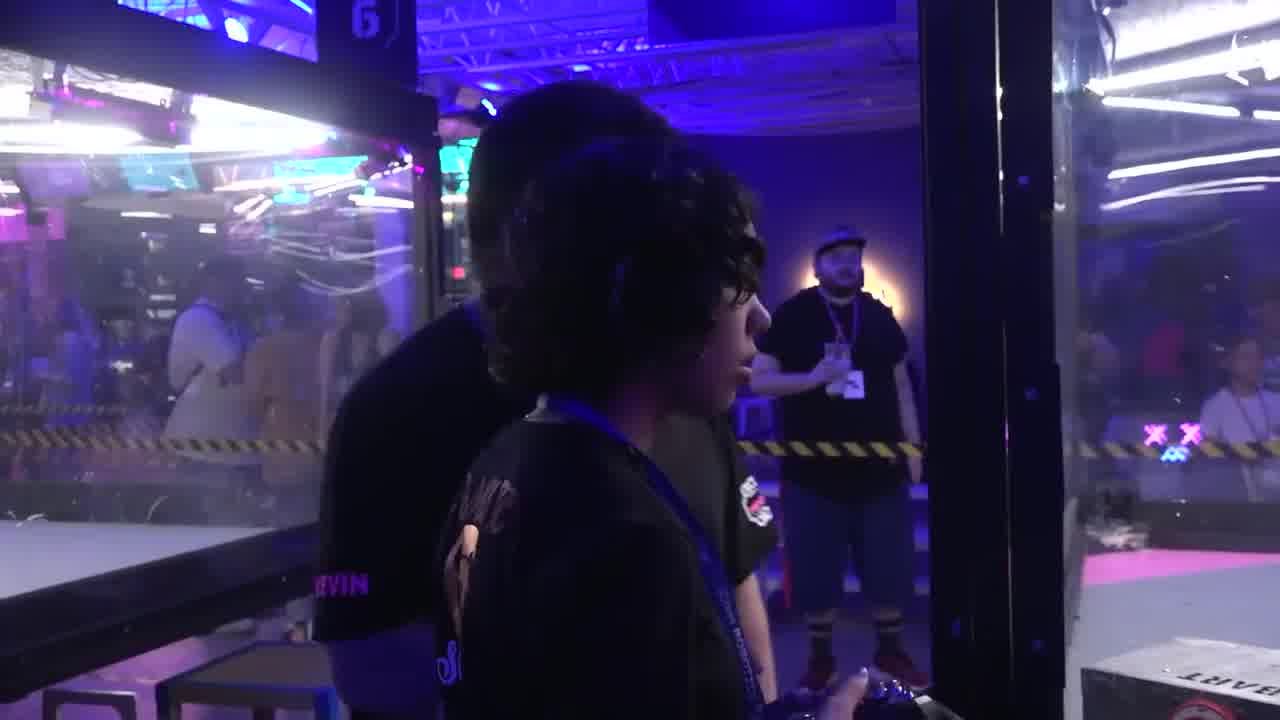housebot: (1085, 630, 1280, 717)
